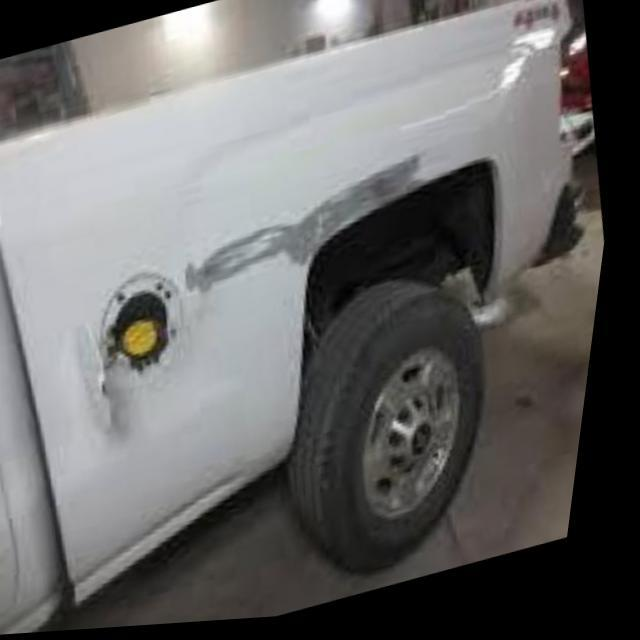rub: (189, 137, 439, 296)
